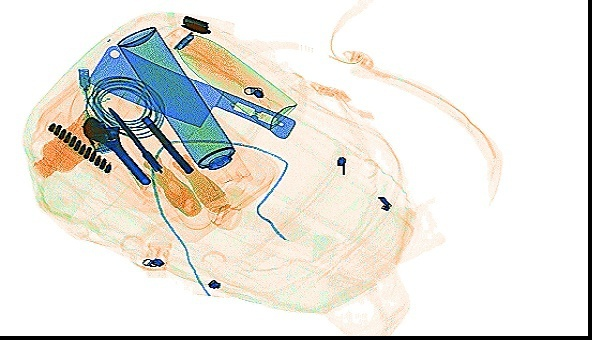knife: (87, 41, 295, 139)
pressure: (115, 24, 252, 190), (158, 23, 299, 131)
